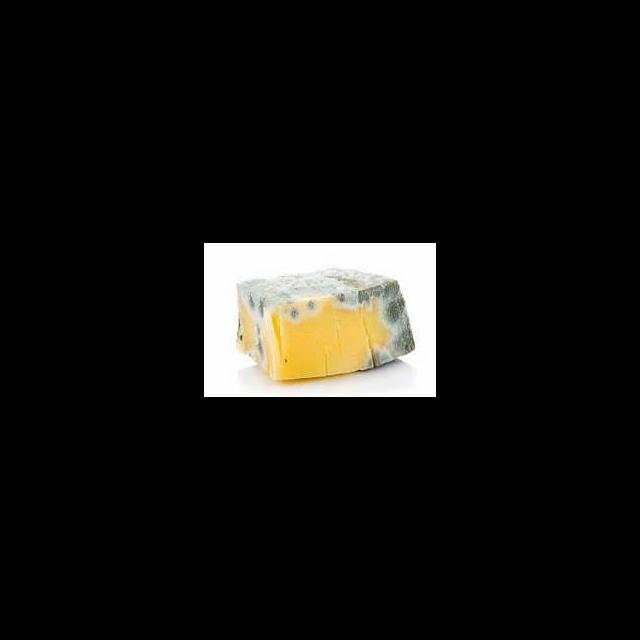food_waste: (232, 281, 417, 382)
